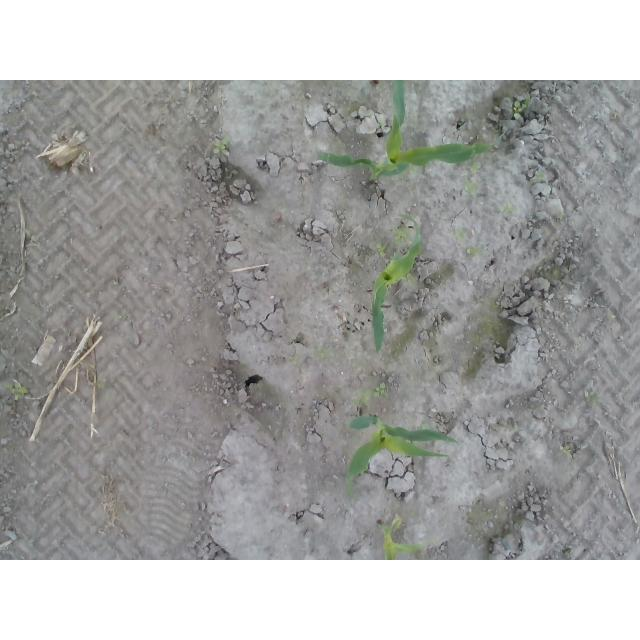Maize: (319, 80, 492, 184), (345, 413, 459, 495), (369, 213, 423, 353), (382, 518, 426, 560)
Weeds: (4, 381, 28, 401), (351, 390, 373, 406), (374, 382, 391, 401), (391, 226, 409, 243), (511, 100, 525, 120), (212, 139, 230, 154), (399, 210, 418, 222), (375, 243, 390, 258), (468, 160, 481, 173), (464, 182, 477, 195), (453, 231, 467, 242), (466, 247, 480, 257), (561, 444, 572, 456), (584, 391, 597, 401)
